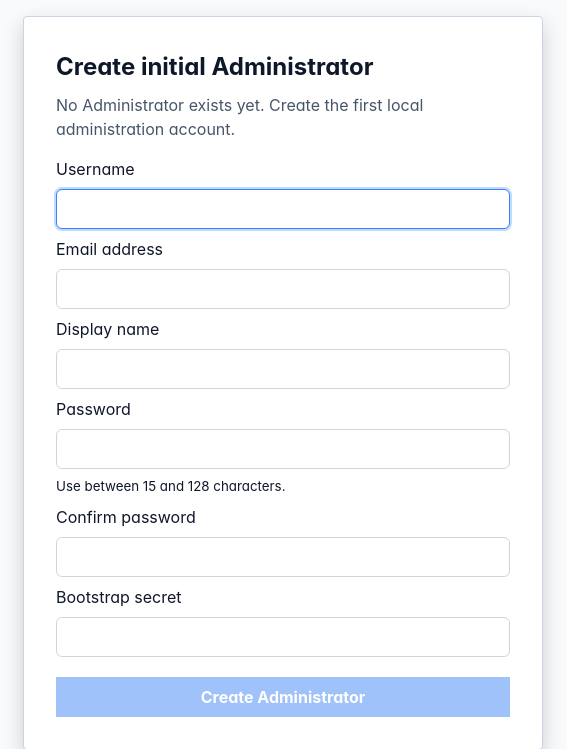
Test case: BootstrapAdministratorPage › shows a specific retry-later message for rate limiting.
Type "  administrator  " into the field labelled "Username" at {"x": 283, "y": 209}, box [56, 189, 510, 229]
Type "  ADMIN@Example.org  " into the field labelled "Email address" at {"x": 283, "y": 289}, box [56, 269, 510, 309]
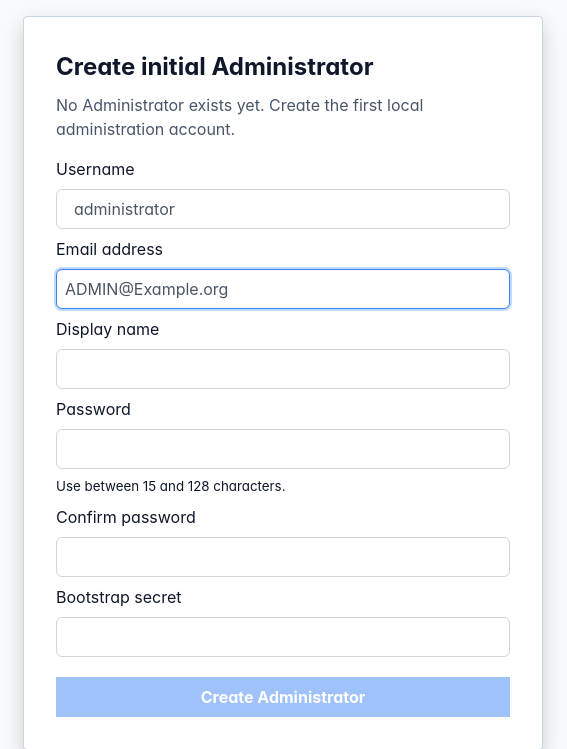
Type "  Initial Administrator  " into the field labelled "Display name" at {"x": 283, "y": 369}, box [56, 349, 510, 389]
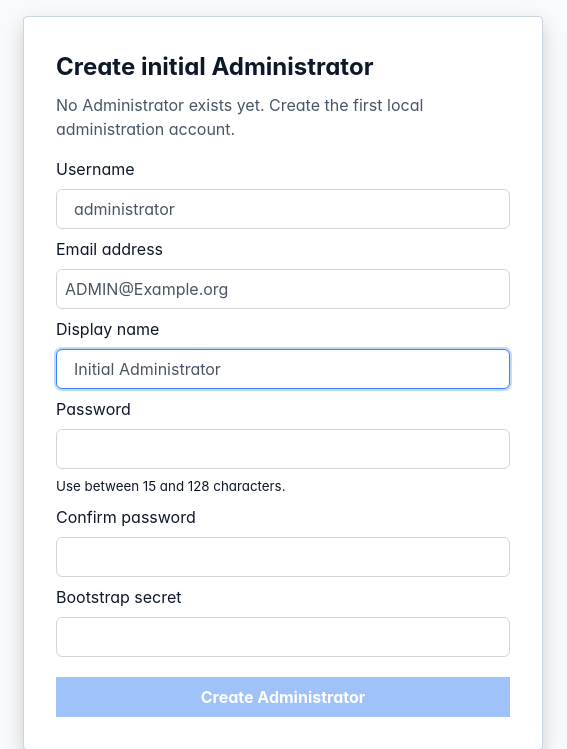
Type "correct horse battery staple" into the password field labelled "Password" at {"x": 283, "y": 449}, box [56, 429, 510, 469]
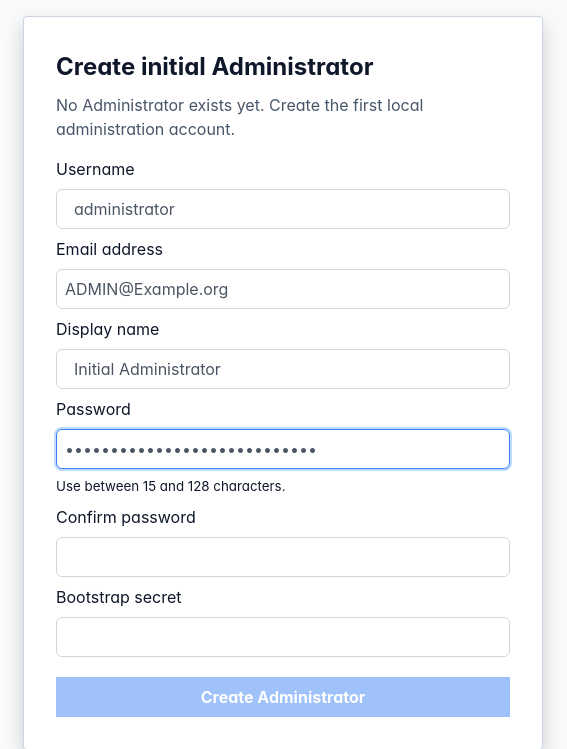
Type "correct horse battery staple" into the password field labelled "Confirm password" at {"x": 283, "y": 557}, box [56, 537, 510, 577]
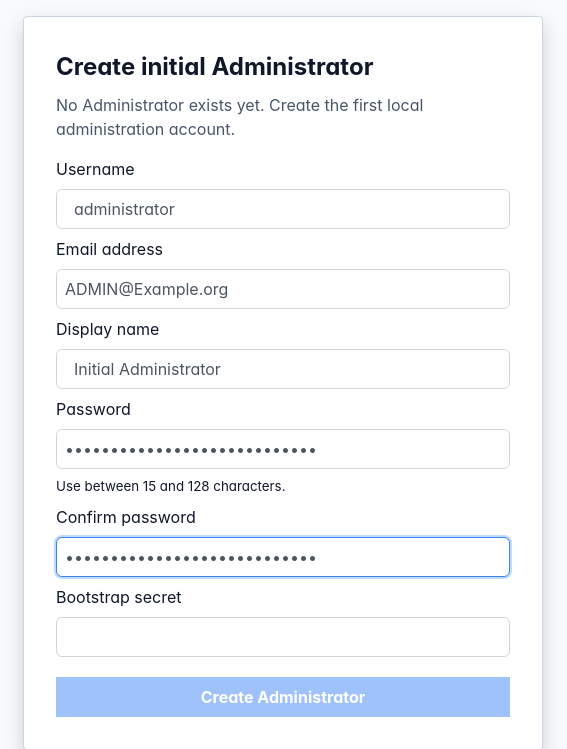
Type "  setup-secret  " into the password field labelled "Bootstrap secret" at {"x": 283, "y": 637}, box [56, 617, 510, 657]
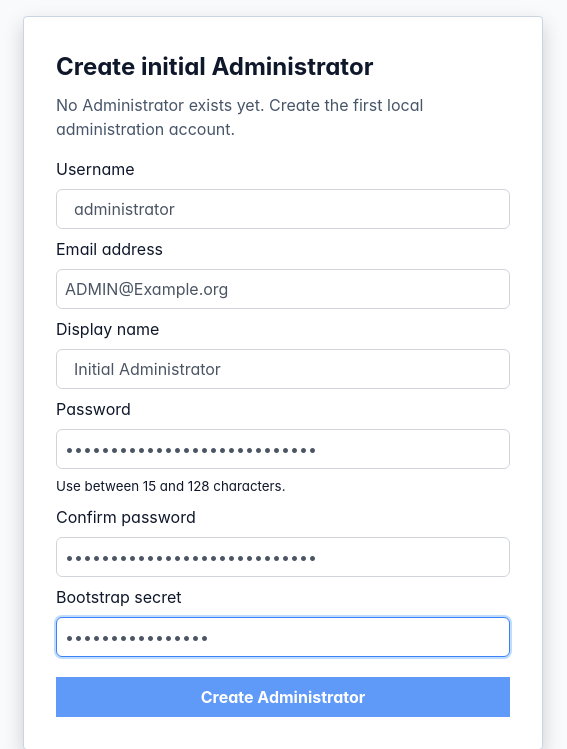
Click the button "Create Administrator" at {"x": 283, "y": 697}, box [56, 677, 510, 717]
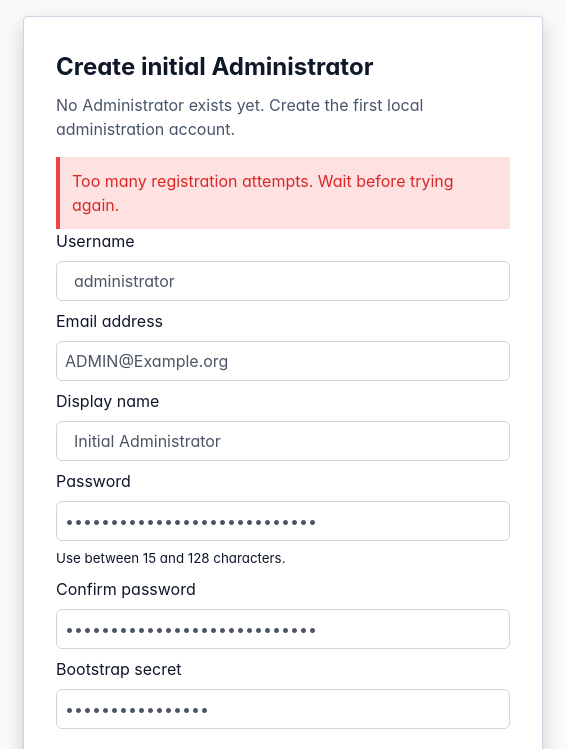
Result: the message reads "Too many registration attempts. Wait before trying again." at [72, 171, 454, 215]
